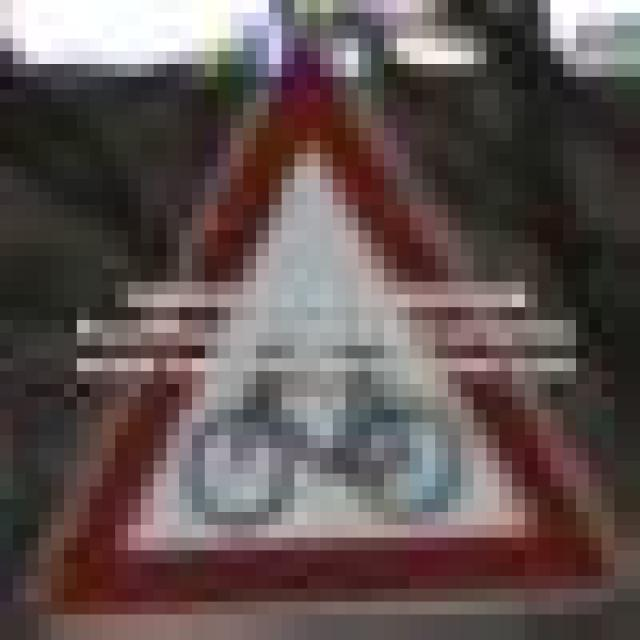CYCLE_CROSSING: (0, 0, 627, 627)
